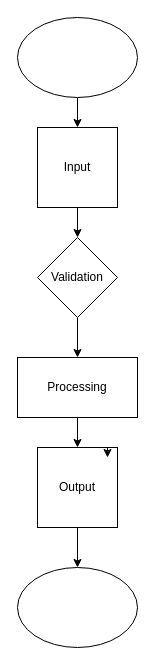
Some shapes in this 155 by 665 pixel diagram are drawn without their labels. The shapes that lost their labels are listed below. From the top down, each one's centre as x and y in pixels, then its label:
At point 77,57: "Start".
At point 77,607: "End".
